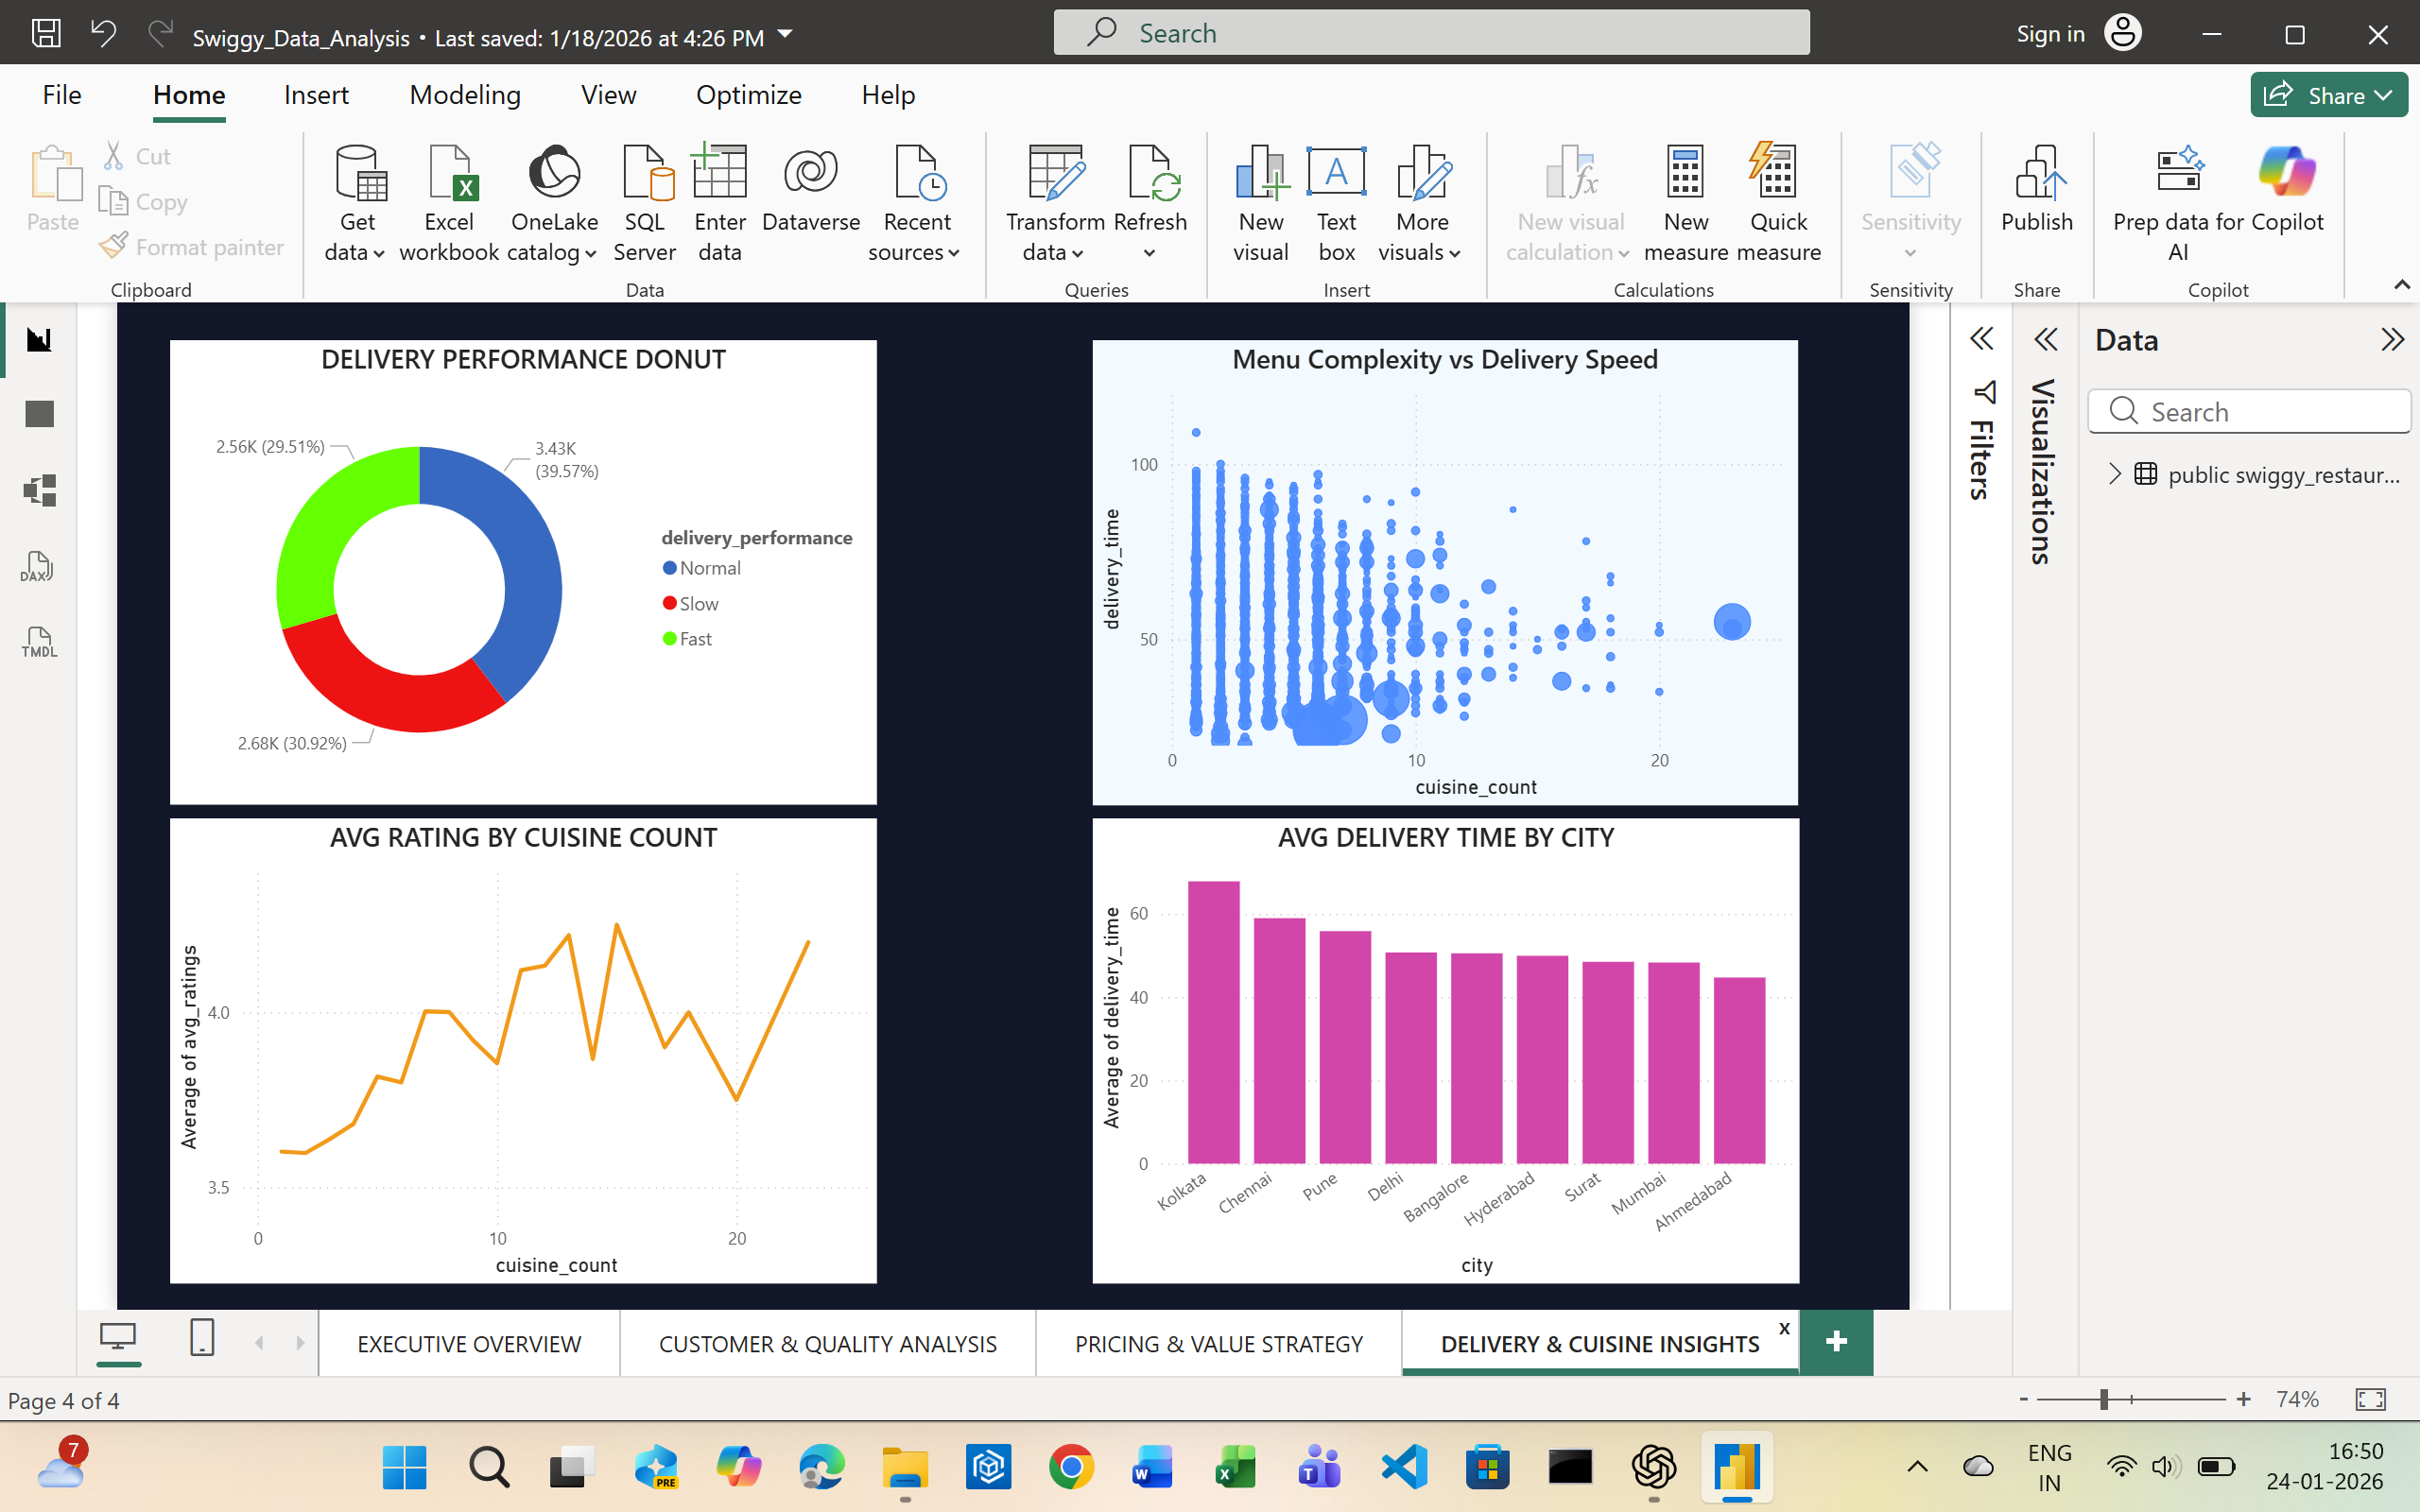

The page's visual inventory and layout, read from the dashboard file:
{"tool":"powerbi","page":{"name":"DELIVERY & CUISINE INSIGHTS","canvas":[1280,720],"ordinal":3},"visuals":[{"type":"donutChart","title":"DELIVERY PERFORMANCE DONUT","fields":{"Category":["public swiggy_restaurants.delivery_performance"],"Y":["CountNonNull(public swiggy_restaurants.id)"]},"box":[37.9,27.3,505,332.1],"z":0},{"type":"scatterChart","title":"Menu Complexity vs Delivery Speed","fields":{"X":["public swiggy_restaurants.cuisine_count"],"Y":["public swiggy_restaurants.delivery_time"],"Size":["Avg(public swiggy_restaurants.total_ratings)"]},"box":[697,27,503.9,332.3],"z":1000},{"type":"lineChart","title":"AVG RATING BY CUISINE COUNT","fields":{"Category":["public swiggy_restaurants.cuisine_count"],"Y":["Avg(public swiggy_restaurants.avg_ratings)"]},"box":[37.8,368.8,505.2,332.3],"z":2000},{"type":"columnChart","title":"AVG DELIVERY TIME BY CITY","fields":{"Category":["public swiggy_restaurants.city"],"Y":["Avg(public swiggy_restaurants.delivery_time)"]},"box":[697,368.8,505.2,332.3],"z":3000}]}

Visuals, with their boxes on the page's 1280x720 design canvas (x1, y1, x2, y2). These are canvas units, not pixel positions in the 2420x1512 screenshot, which may show the page scaled, cropped or inside an application window:
"DELIVERY PERFORMANCE DONUT" donutChart: region(38, 27, 543, 359)
"Menu Complexity vs Delivery Speed" scatterChart: region(697, 27, 1201, 359)
"AVG RATING BY CUISINE COUNT" lineChart: region(38, 369, 543, 701)
"AVG DELIVERY TIME BY CITY" columnChart: region(697, 369, 1202, 701)
